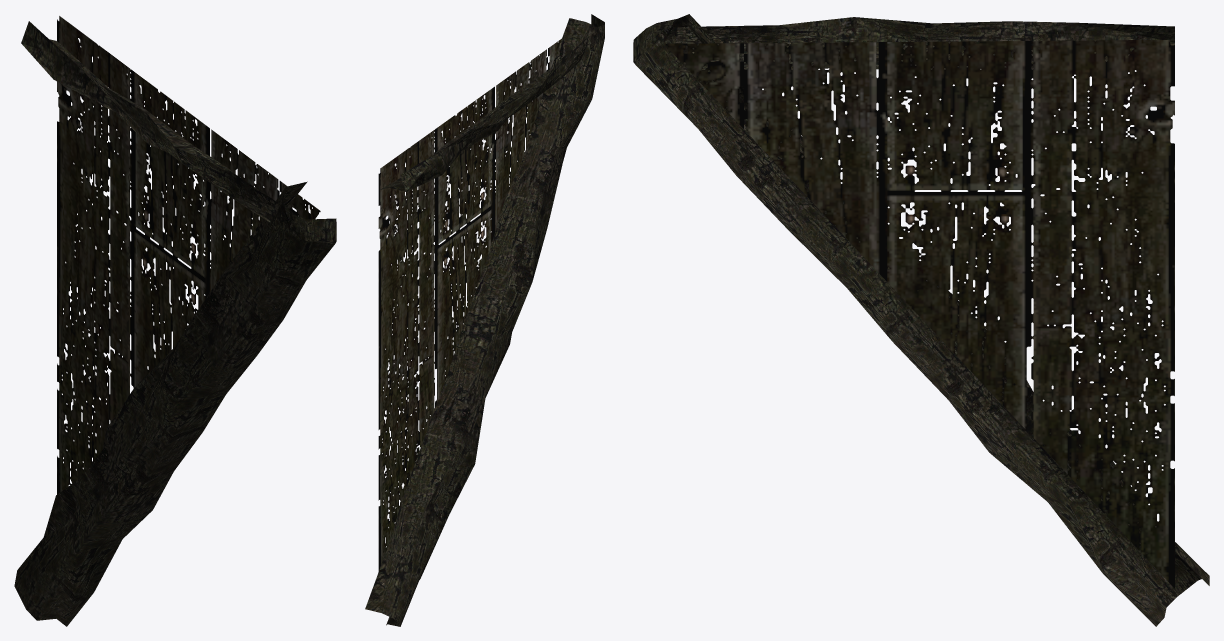
The model's file is sloping_side_right.dae.
The picture shows the model from 3 angles, left to right: view 1: azimuth 30°, elevation 25°; view 2: azimuth 150°, elevation 25°; view 3: azimuth 270°, elevation 25°; orthographic projection. The views are drawn at different scales.
Visible parts, largest first — view 1: pPlane2, polySurface22; view 2: pPlane2, polySurface22; view 3: pPlane2, polySurface22.
Boxes of the visible parts, x1=… form: pPlane2: x1=57, y1=16, x2=320, y2=494; polySurface22: x1=14, y1=21, x2=336, y2=626; pPlane2: x1=378, y1=38, x2=561, y2=571; polySurface22: x1=365, y1=14, x2=604, y2=626; pPlane2: x1=664, y1=40, x2=1174, y2=588; polySurface22: x1=633, y1=14, x2=1209, y2=626.
Size of the model in its own units: 0.2132 by 2.63 by 2.28.
